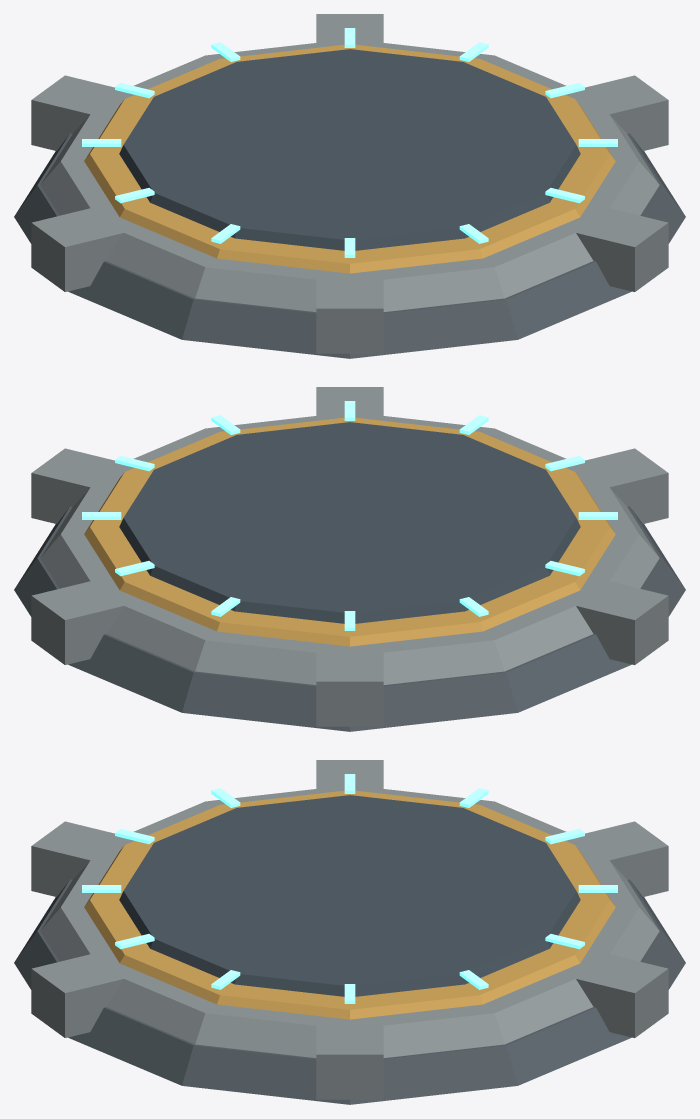
Rendered from wellspring_base.glb.
3 views of the same model, one above another, from view 1: azimuth 30°, elevation 25°; view 2: azimuth 150°, elevation 25°; view 3: azimuth 270°, elevation 25° (orthographic).
Visible parts, largest first — view 1: Wellspring_Base_Inner, Wellspring_Base_Middle, Wellspring_Base_Lower, Wellspring_Base_Inlay, Wellspring_Base_Buttress_4, Wellspring_Base_Buttress_6, Wellspring_Base_Buttress_5, Wellspring_Base_Buttress_3, Wellspring_Base_Buttress_1, Wellspring_Base_Buttress_2; view 2: Wellspring_Base_Inner, Wellspring_Base_Middle, Wellspring_Base_Lower, Wellspring_Base_Inlay, Wellspring_Base_Buttress_4, Wellspring_Base_Buttress_2, Wellspring_Base_Buttress_3, Wellspring_Base_Buttress_1, Wellspring_Base_Buttress_5, Wellspring_Base_Buttress_6; view 3: Wellspring_Base_Inner, Wellspring_Base_Middle, Wellspring_Base_Lower, Wellspring_Base_Inlay, Wellspring_Base_Buttress_6, Wellspring_Base_Buttress_2, Wellspring_Base_Buttress_1, Wellspring_Base_Buttress_5, Wellspring_Base_Buttress_3, Wellspring_Base_Buttress_4.
Boxes of the visible parts, <box> form: Wellspring_Base_Inner: <box>119,49,580,250</box>; Wellspring_Base_Middle: <box>40,40,659,311</box>; Wellspring_Base_Lower: <box>14,133,685,358</box>; Wellspring_Base_Inlay: <box>84,44,615,273</box>; Wellspring_Base_Buttress_4: <box>31,203,142,291</box>; Wellspring_Base_Buttress_6: <box>556,204,668,291</box>; Wellspring_Base_Buttress_5: <box>316,270,383,353</box>; Wellspring_Base_Buttress_3: <box>31,75,134,150</box>; Wellspring_Base_Buttress_1: <box>567,75,668,150</box>; Wellspring_Base_Buttress_2: <box>316,14,383,47</box>; Wellspring_Base_Inner: <box>119,422,580,623</box>; Wellspring_Base_Middle: <box>40,413,659,684</box>; Wellspring_Base_Lower: <box>14,506,685,731</box>; Wellspring_Base_Inlay: <box>84,417,615,646</box>; Wellspring_Base_Buttress_4: <box>556,576,668,664</box>; Wellspring_Base_Buttress_2: <box>31,577,143,664</box>; Wellspring_Base_Buttress_3: <box>316,643,383,726</box>; Wellspring_Base_Buttress_1: <box>31,448,133,523</box>; Wellspring_Base_Buttress_5: <box>566,448,668,523</box>; Wellspring_Base_Buttress_6: <box>316,387,383,420</box>; Wellspring_Base_Inner: <box>119,795,580,996</box>; Wellspring_Base_Middle: <box>40,786,659,1057</box>; Wellspring_Base_Lower: <box>14,879,685,1104</box>; Wellspring_Base_Inlay: <box>84,790,615,1019</box>; Wellspring_Base_Buttress_6: <box>31,949,143,1037</box>; Wellspring_Base_Buttress_2: <box>556,950,668,1037</box>; Wellspring_Base_Buttress_1: <box>316,1016,383,1099</box>; Wellspring_Base_Buttress_5: <box>31,821,134,896</box>; Wellspring_Base_Buttress_3: <box>567,821,668,896</box>; Wellspring_Base_Buttress_4: <box>316,760,383,793</box>.
Bounding box in the file's own units: 4.77 × 0.5705 × 4.6.
